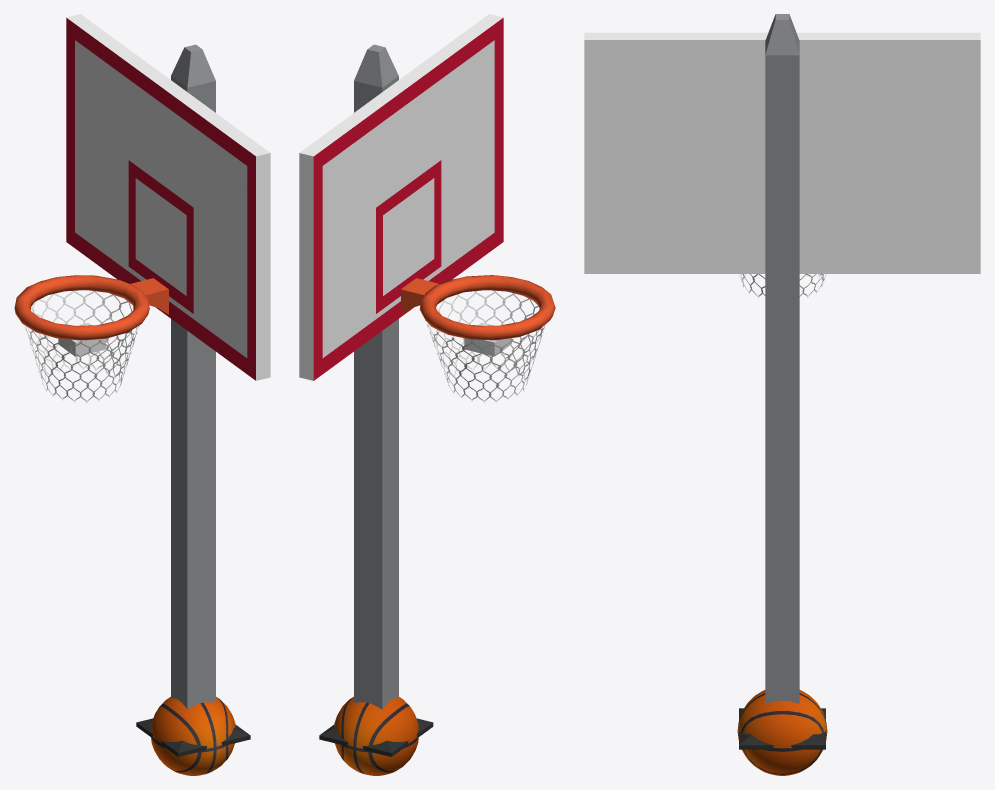
3 views of the same model, side by side, from view 1: azimuth 30°, elevation 25°; view 2: azimuth 150°, elevation 25°; view 3: azimuth 270°, elevation 25° (orthographic). The views are drawn at different scales.
Parts seen in each view (by area): view 1: Basketball_Hoop, Basketball, Basket_Check; view 2: Basketball_Hoop, Basketball, Basket_Check; view 3: Basketball_Hoop, Basketball.
Part boxes in pixels (box(x1,y1,x2,y2)): Basketball_Hoop: box(14, 14, 270, 756); Basketball: box(151, 697, 235, 775); Basket_Check: box(58, 322, 105, 356); Basketball_Hoop: box(299, 14, 555, 756); Basketball: box(334, 697, 418, 775); Basket_Check: box(464, 322, 511, 356); Basketball_Hoop: box(584, 14, 980, 749); Basketball: box(737, 690, 827, 775).
Size of what is drawn, in the model's own units: 3.57 by 11.89 by 5.66.
3 materials, 3 textured.
